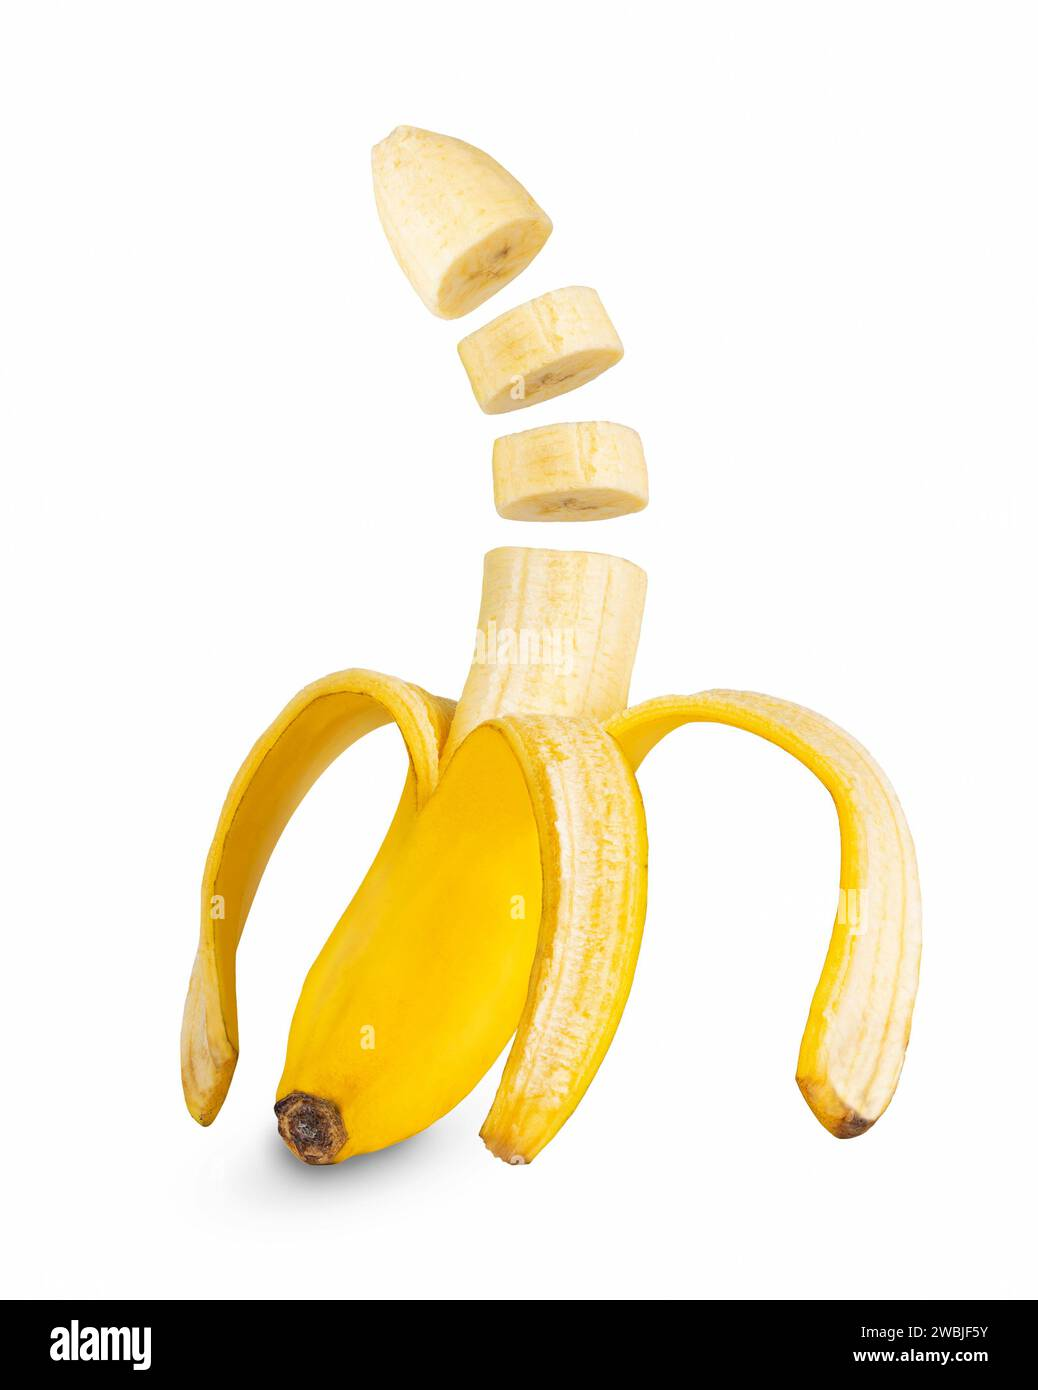peeled banana: (88, 123, 1027, 1237)
